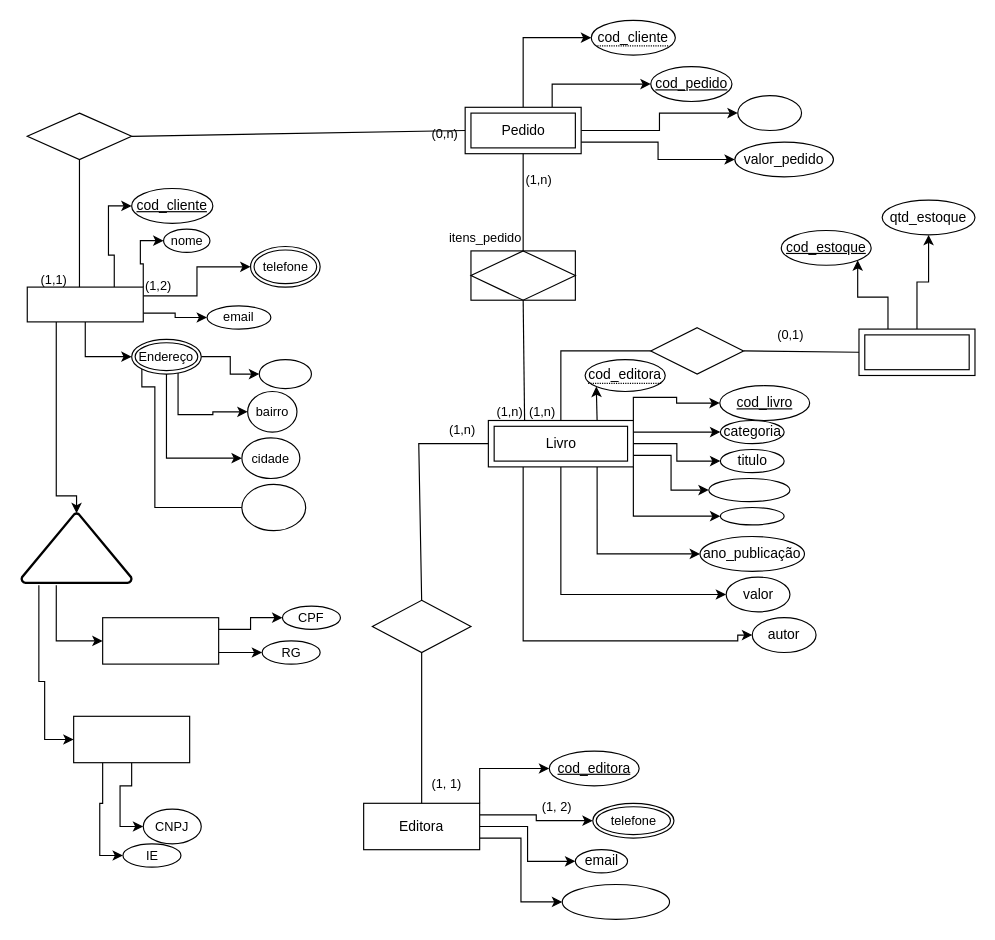
Some shapes in this 995 by 940 pixel diagram are drawn without their labels. The box of each missing label's shape, as (x1, y1, x2, y2) in pixels:
Cliente: (26, 286, 143, 322)
Contém: (470, 250, 575, 300)
data: (737, 95, 802, 130)
estado: (241, 483, 306, 531)
Estoque: (858, 328, 975, 375)
Existe: (650, 327, 744, 374)
Faz: (26, 112, 132, 160)
ISBN: (719, 506, 784, 525)
nome_contato: (561, 883, 670, 919)
nome_livro: (708, 477, 790, 502)
Pertence: (371, 599, 471, 652)
Pessoa física: (102, 617, 219, 664)
Pessoa jurídica: (72, 715, 190, 763)
rua: (258, 358, 311, 389)
